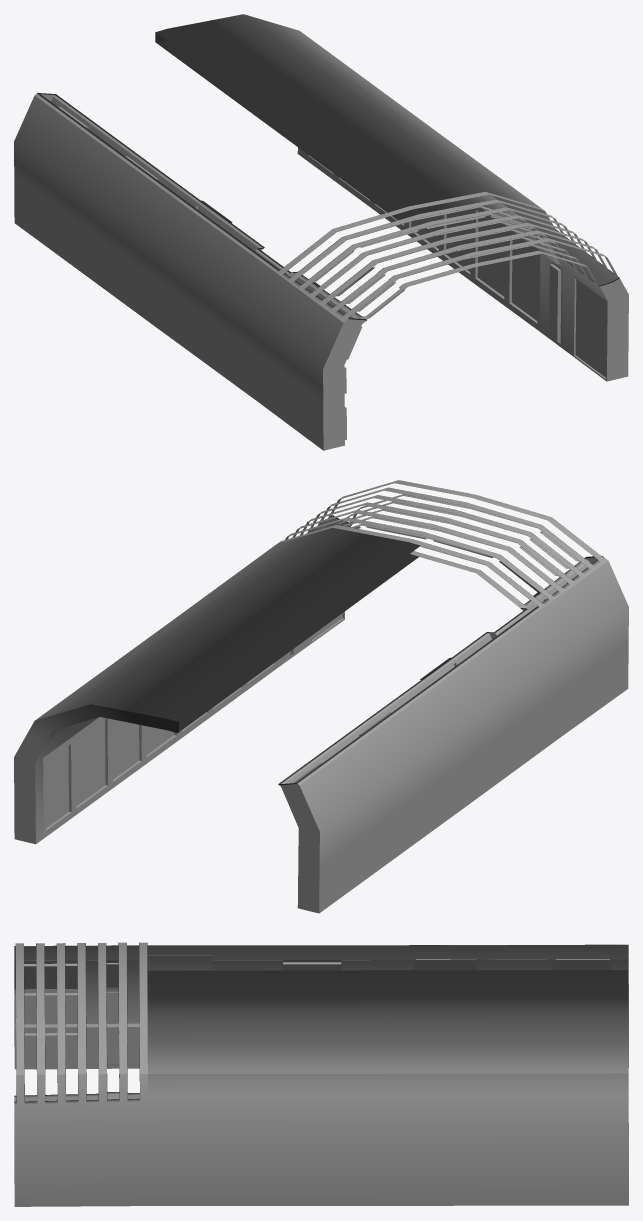
Rendered from SM_Domo.fbx.
3 renders of one model, top to bottom at view 1: azimuth 30°, elevation 25°; view 2: azimuth 150°, elevation 25°; view 3: azimuth 270°, elevation 25°, orthographic.
Visible parts, largest first — view 1: Escenario; view 2: Escenario; view 3: Escenario.
Boxes of the visible parts, x1,y1,x2,y2 form: Escenario: (14, 14, 628, 450); Escenario: (14, 480, 628, 913); Escenario: (14, 942, 628, 1206).
Bounding box in the file's own units: 493 × 245 × 864.
1 material, 1 textured.
